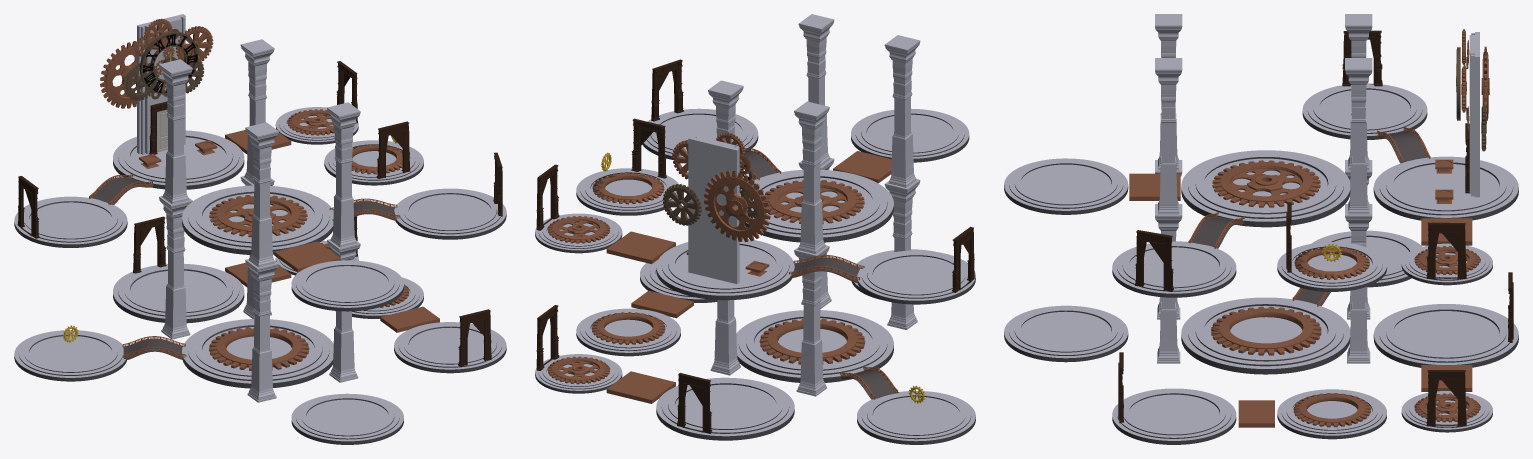
The model's file is Navigation.fbx.
3 views of the same model, side by side, from view 1: azimuth 30°, elevation 25°; view 2: azimuth 150°, elevation 25°; view 3: azimuth 270°, elevation 25° (orthographic). The views are drawn at different scales.
Parts seen in each view (by area): view 1: Platform 01.03, Platform 01.07, Platform 03, Platform 01, Platform 01.01, Platform 01.05, Platform 02, Platform 05, Platform 07, Platform 01.02, Pilar 02, Pilar 01 (+30 smaller); view 2: Platform 01.07, Platform 01.03, Door Wall, Platform 01.05, Platform 05, Platform 07, Platform 03, Platform 01, Pilar 03, Pilar 01, Gear 09, Platform 01.04 (+32 smaller); view 3: Platform 01.03, Platform 01.07, Platform 03, Platform 07, Platform 01, Platform 01.01, Platform 01.02, Platform 02, Platform 05, Gear Platform 03.001, Platform 01.04, Platform 04 (+25 smaller).
Part boxes in pixels (box(x1,y1,x2,y2)): Platform 01.03: box(182, 319, 333, 388); Platform 01.07: box(113, 263, 244, 323); Platform 03: box(182, 185, 333, 254); Platform 01: box(291, 260, 403, 311); Platform 01.01: box(291, 393, 403, 444); Platform 01.05: box(14, 330, 126, 381); Platform 02: box(394, 188, 506, 239); Platform 05: box(14, 196, 127, 247); Platform 07: box(113, 130, 244, 189); Platform 01.02: box(394, 322, 506, 373); Pilar 02: box(327, 102, 360, 247); Pilar 01: box(245, 122, 278, 267); Platform 01.07: box(656, 377, 794, 440); Platform 01.03: box(736, 310, 893, 382); Door Wall: box(688, 136, 739, 283); Platform 01.05: box(857, 391, 975, 444); Platform 05: box(857, 250, 975, 304); Platform 07: box(656, 238, 794, 300); Platform 03: box(739, 169, 893, 242); Platform 01: box(851, 108, 969, 162); Pilar 03: box(794, 101, 829, 253); Pilar 01: box(884, 35, 920, 187); Gear 09: box(704, 170, 770, 242); Platform 01.04: box(576, 308, 680, 356); Platform 01.03: box(1181, 297, 1350, 374); Platform 01.07: box(1373, 304, 1518, 367); Platform 03: box(1181, 150, 1350, 227); Platform 07: box(1373, 156, 1518, 220); Platform 01: box(1004, 158, 1128, 214); Platform 01.01: box(1004, 305, 1128, 362); Platform 01.02: box(1112, 388, 1236, 444); Platform 02: box(1112, 241, 1236, 297); Platform 05: box(1302, 83, 1427, 139); Gear Platform 03.001: box(1212, 160, 1320, 207); Platform 01.04: box(1277, 389, 1386, 439); Platform 04: box(1277, 242, 1387, 291).
Bounding box in the file's own units: 2727 × 1826 × 2821.
